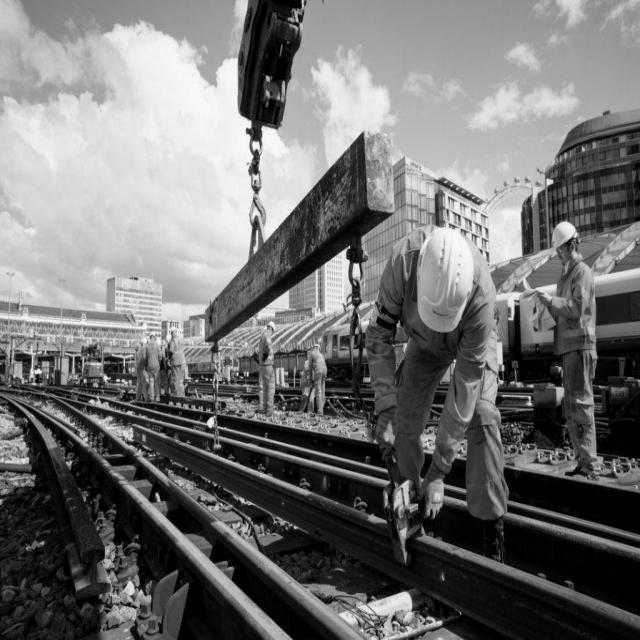hand_glove: (416, 459, 451, 524)
head_helmet: (415, 226, 476, 334), (550, 220, 579, 248), (266, 320, 276, 332), (169, 326, 177, 336), (152, 330, 156, 340)
person: (366, 221, 505, 574), (548, 220, 598, 482), (256, 321, 276, 418), (312, 342, 329, 415), (147, 332, 161, 403), (168, 327, 182, 396), (297, 358, 312, 417), (136, 340, 146, 402)
vest: (371, 222, 498, 441), (551, 256, 597, 360), (258, 332, 274, 368)
